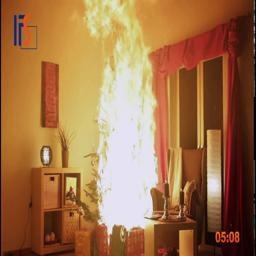fire: (71, 0, 170, 234)
